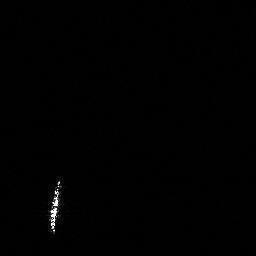ship: (47, 175, 71, 232)
